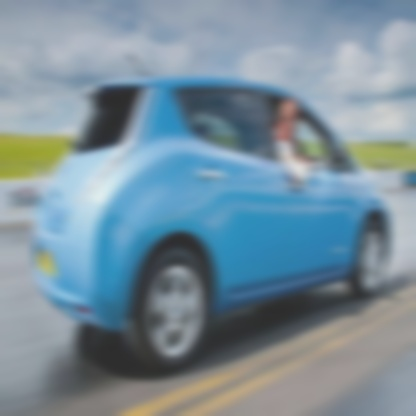Vehicle: (31, 77, 394, 364)
